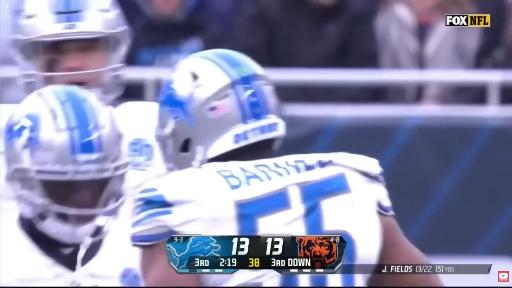Helmet: (4, 86, 128, 243), (156, 50, 286, 169), (11, 0, 131, 103)
Jersey: (132, 153, 393, 264), (0, 213, 143, 286), (115, 102, 166, 192), (0, 104, 17, 220)
Player: (132, 50, 442, 286), (12, 0, 165, 188), (0, 86, 142, 286)
